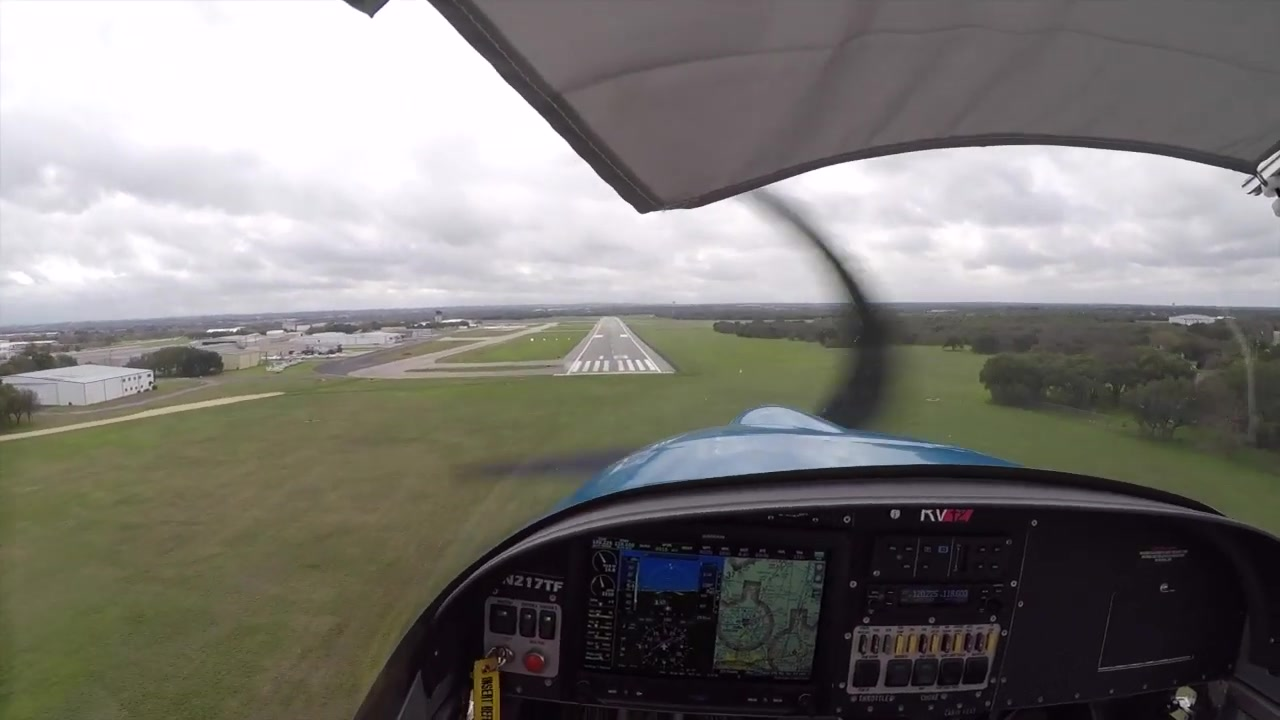entrance: (570, 360, 653, 371)
runway: (555, 311, 677, 377)
